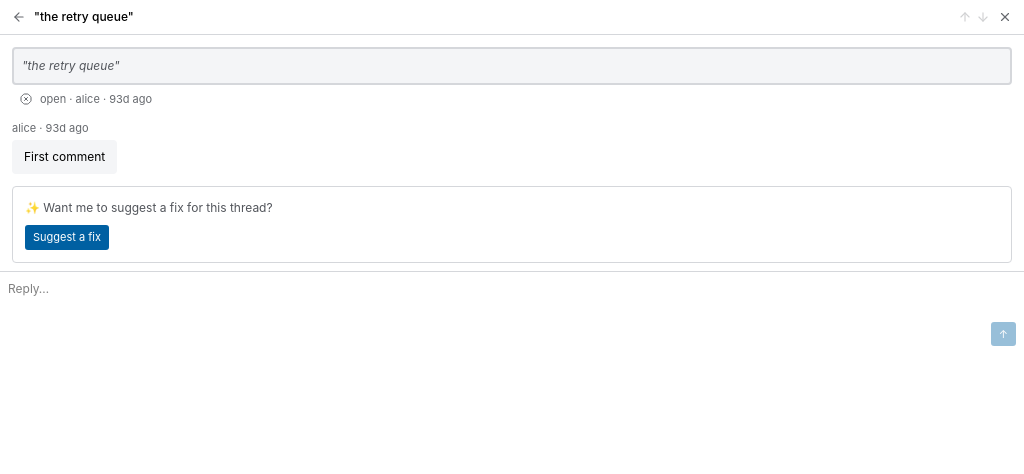
Reply flow (mode='reply') › shows enhancing indicator while AI runs
The image size is (1024, 474).
Type "my reply" into the text box with placeholder "Reply…". click: (512, 298)
box: [8, 280, 1016, 316]
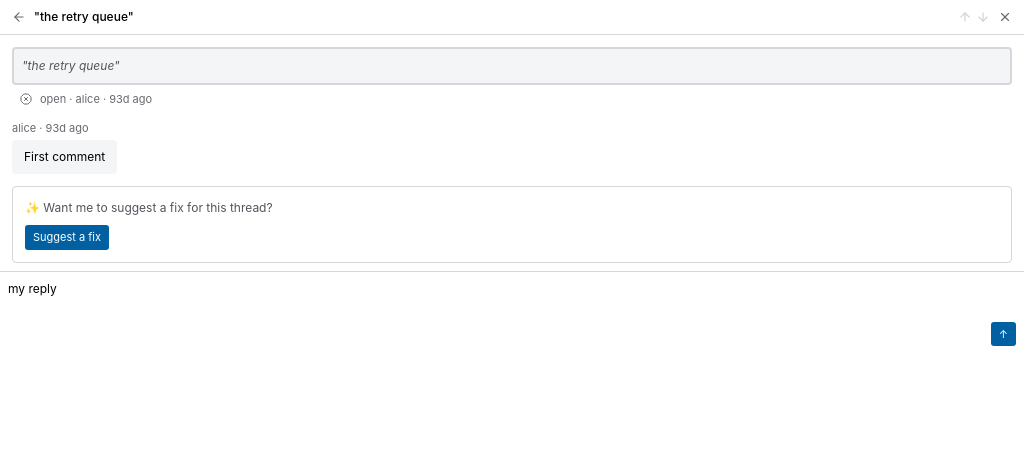
Click the button "↑". click: (1003, 334)
box: [991, 322, 1016, 346]
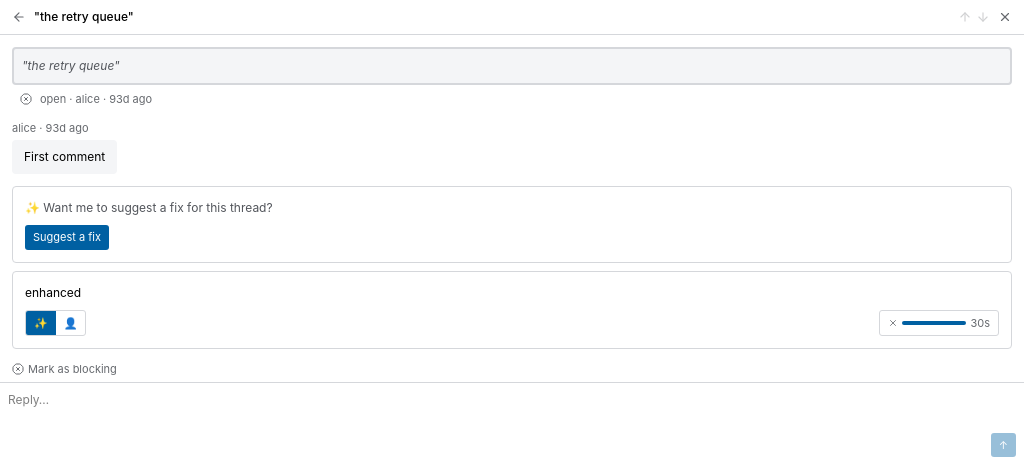
Check: the text "enhancing" is shown, box [12, 270, 1012, 349]
